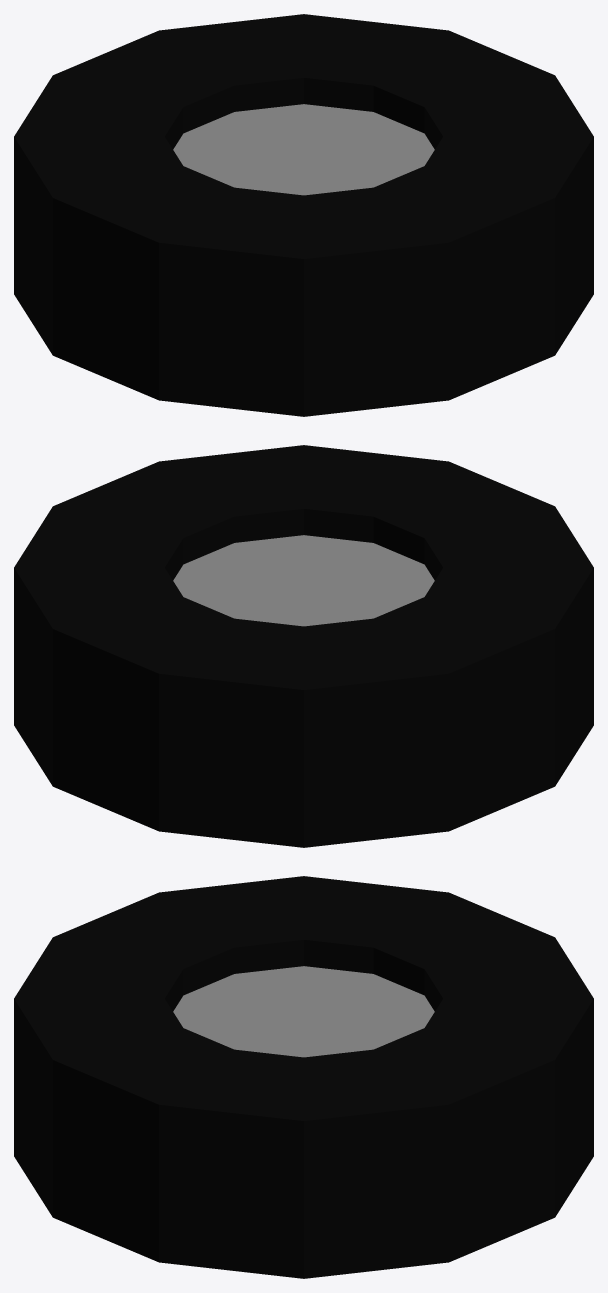
The model's file is wheel.fbx.
3 renders of one model, top to bottom at view 1: azimuth 30°, elevation 25°; view 2: azimuth 150°, elevation 25°; view 3: azimuth 270°, elevation 25°, orthographic.
Parts seen in each view (by area): view 1: Cylinder; view 2: Cylinder; view 3: Cylinder.
Boxes of the visible parts, <box> form: Cylinder: <box>14,14,593,416</box>; Cylinder: <box>14,445,593,847</box>; Cylinder: <box>14,876,593,1278</box>.
Size of the model in its own units: 200 by 60 by 200.
Materials: 1 (1 with a texture image).
